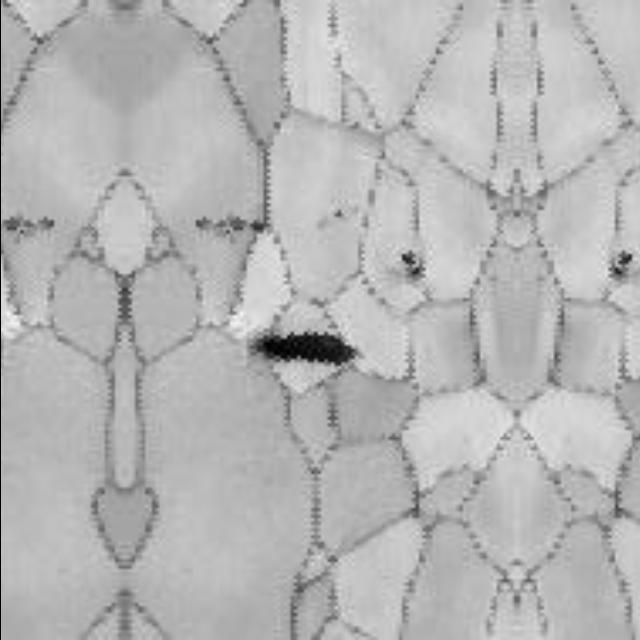good_void: (249, 327, 357, 367), (199, 216, 246, 243), (3, 216, 50, 243), (399, 246, 431, 284), (603, 246, 635, 284), (249, 217, 275, 239), (330, 205, 344, 221)
